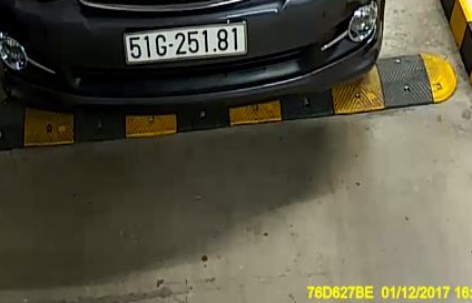plate: (119, 17, 253, 65)
